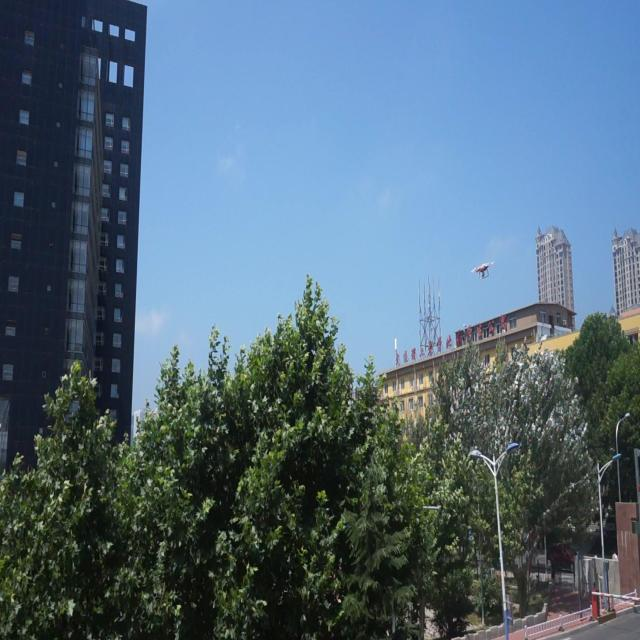drone: (470, 258, 494, 280)
